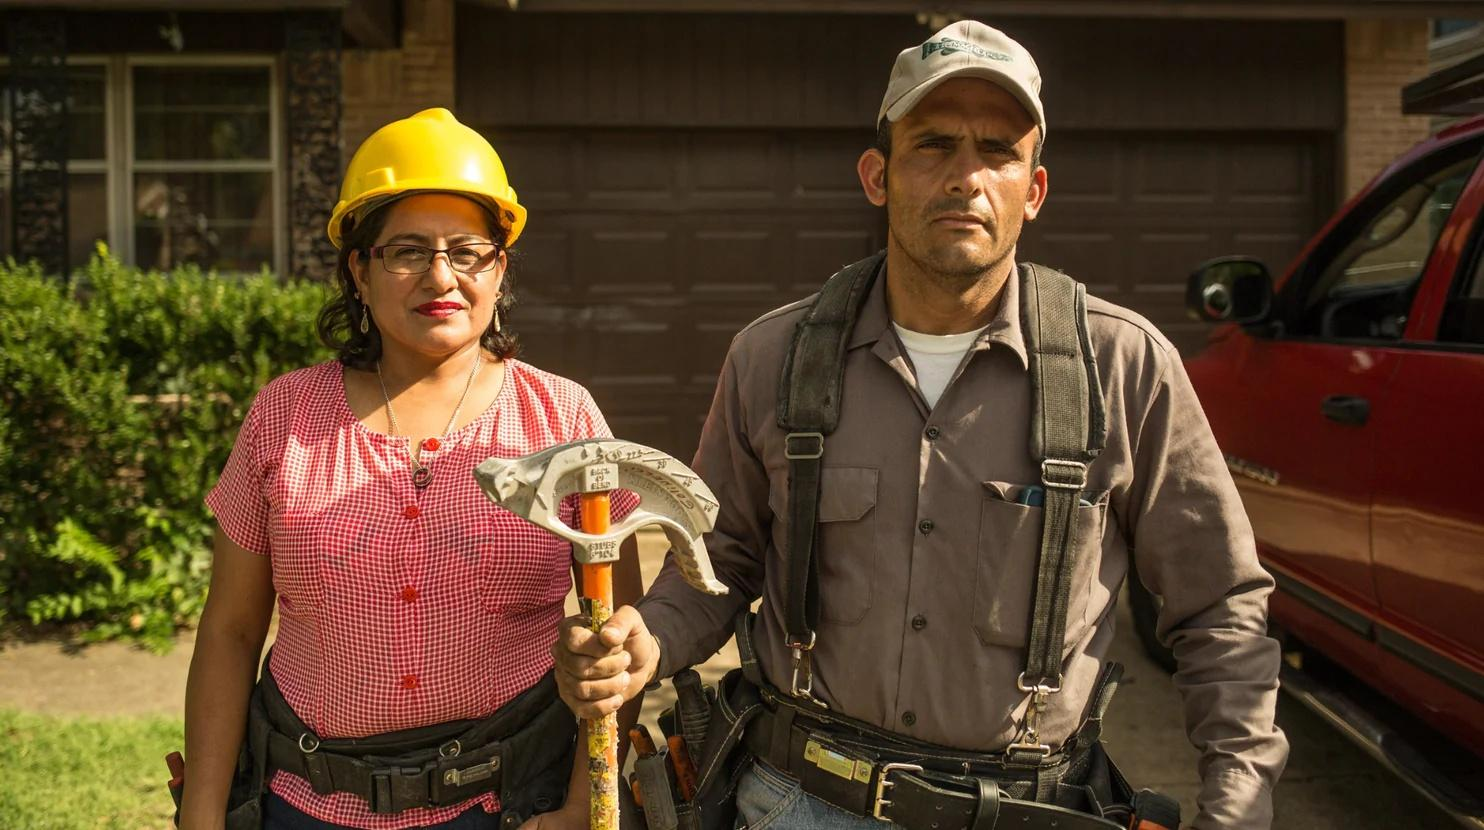helmet: (331, 106, 530, 258)
